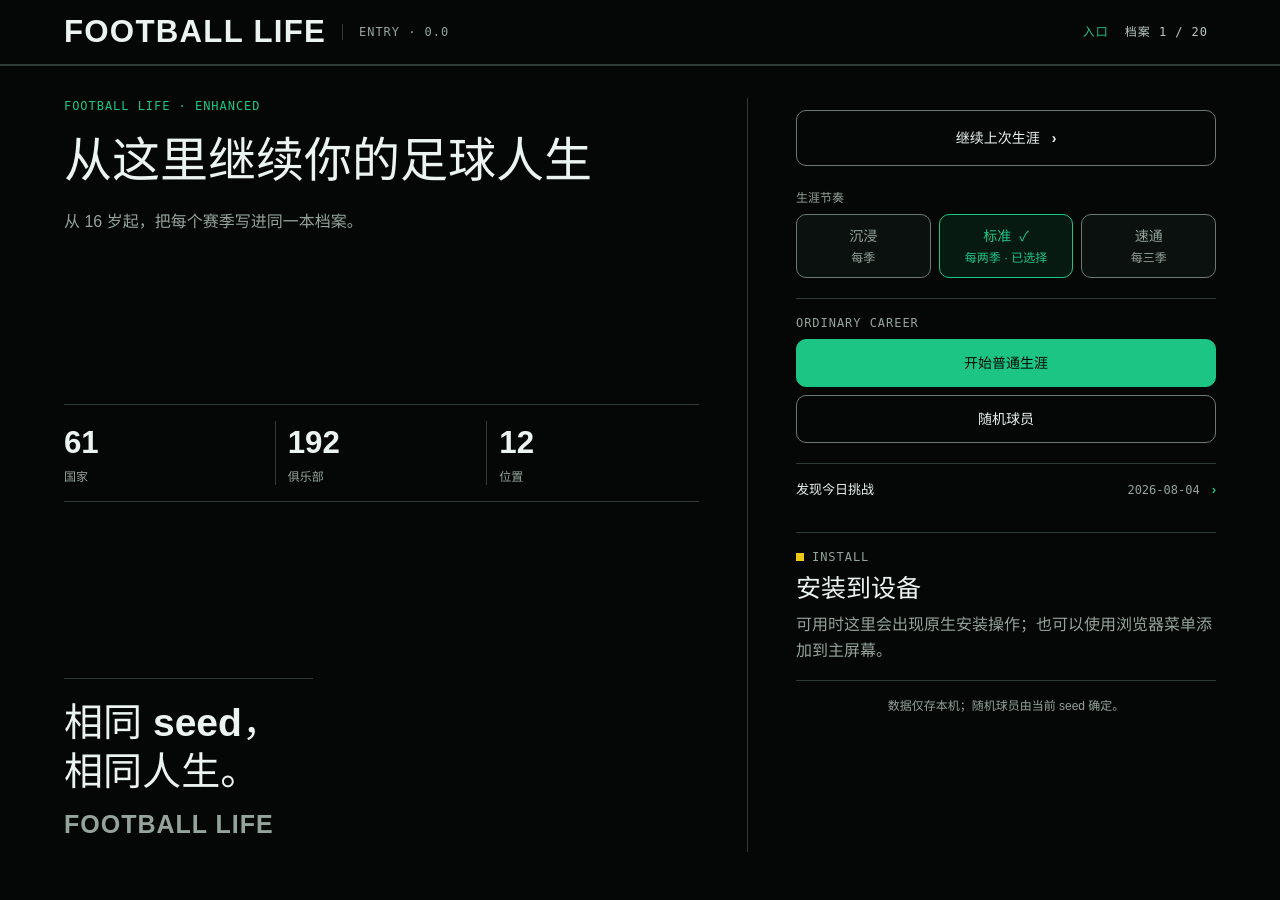
Test case: UI mode shells › does not silently resume an unrelated saved Seed and persists an explicit resume
Check: the heading "从这里继续你的足球人生" is shown, box [64, 134, 640, 188]
Click the button "继续上次生涯 ›": (1006, 138) [796, 110, 1216, 166]
(page scrolled)
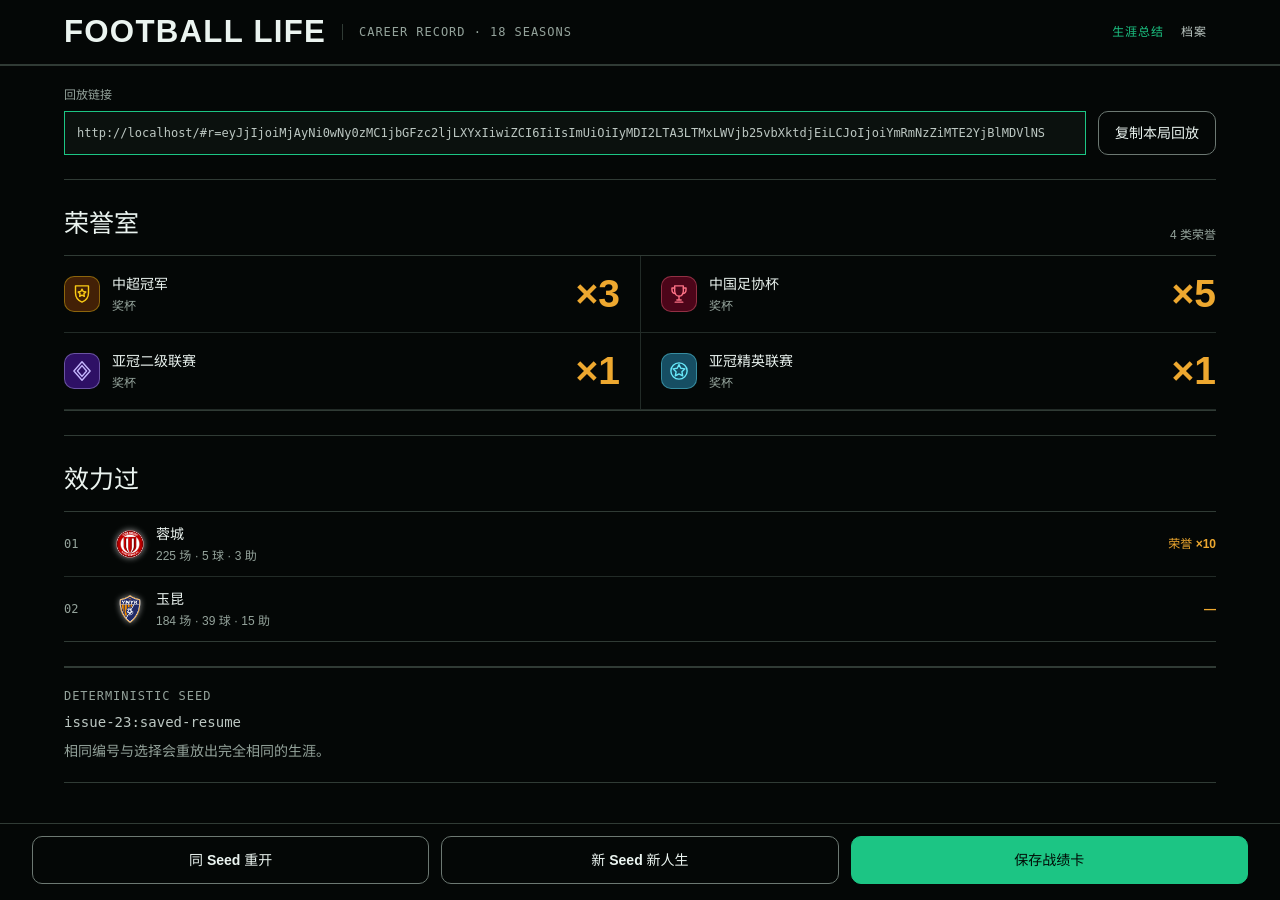
Check: the text "issue-23:saved-resume" is shown, box [64, 714, 241, 730]
